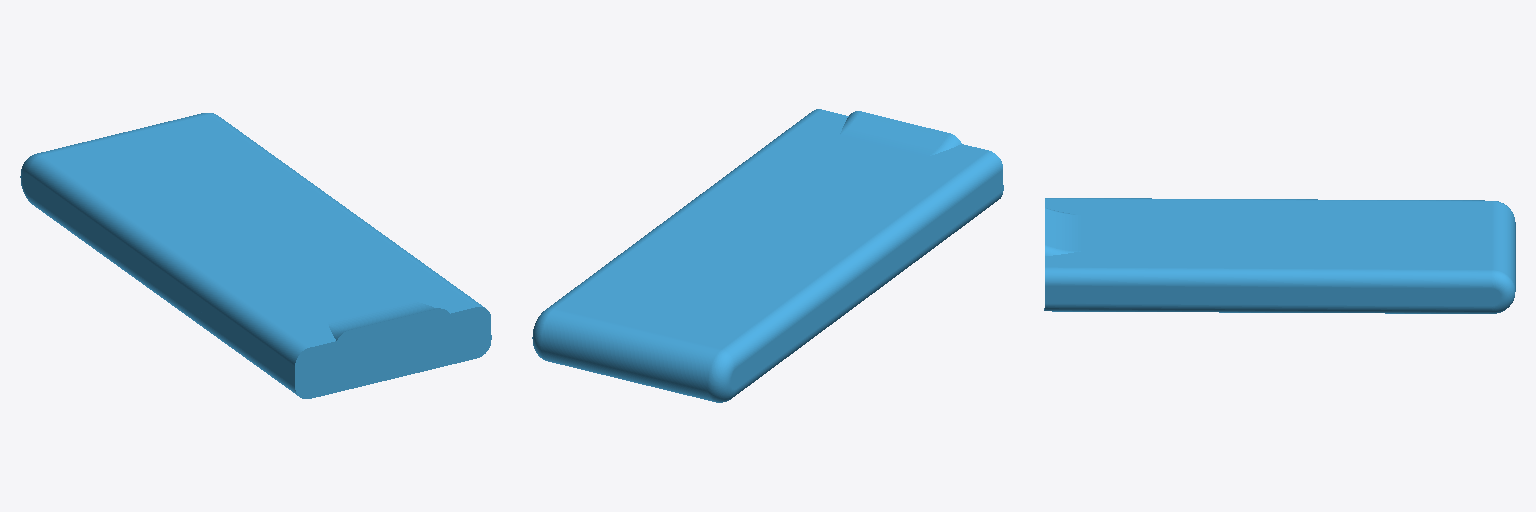
robot.urdf — lock:
<?xml version="1.0" ?>
<robot name="lock" xmlns:xacro="http://www.ros.org/wiki/xacro">
  <link name="body">
    <visual>
      <origin rpy="0 0 0" xyz="0 0 0"/>
      <geometry>
        <mesh filename="package://snap-lock/snap-lock-body.stl"/>
      </geometry>
    </visual>
    <collision>
      <origin rpy="1.57 0 0" xyz="0 0 0"/>
      <geometry>
        <mesh filename="package://snap-lock/snap-lock-body-vhacd.obj"/>
      </geometry>
    </collision>
  </link>
  <link name="arm">
    <visual>
      <origin rpy="0 0 0" xyz="-0. 0.22 -0.13"/>
      <geometry>
        <mesh filename="package://snap-lock/snap-lock-arm.stl"/>
      </geometry>
    </visual>
    <collision>
      <origin rpy="1.57 0 0" xyz="-0. 0.22 -0.13"/>
      <geometry>
        <mesh filename="package://snap-lock/snap-lock-arm-vhacd.obj"/>
      </geometry>
    </collision>
  </link>

  <joint name="joint1" type="revolute">
    <parent link="body"/>
    <child link="arm"/>
    <origin rpy="0 0 0" xyz="-0. -0.22 0.13"/>
    <axis xyz="1 0 0"/>
    <limit effort="20" lower="-1.5" upper="1.5" velocity="0.2"/>
  </joint>

</robot>

--- Render facts (derived) ---
The picture shows the robot from 3 angles, left to right: view 1: azimuth 30°, elevation 25°; view 2: azimuth 150°, elevation 25°; view 3: azimuth 270°, elevation 25°; orthographic projection.
Model lock with 2 links and 1 joints (1 revolute), rooted at body, posed every joint at zero.
Visible links, largest first — view 1: arm; view 2: arm; view 3: arm.
Boxes of the visible links, x1,y1,x2,y2 form: arm: (20,113,491,398); arm: (532,109,1003,402); arm: (1044,198,1515,313).
Bounding box of the posed robot: 0.2 × 0.4975 × 0.0608 m (x, y, z).
Meshes: 2 distinct files referenced, 1 mesh visuals loaded (1 binary STL); not drawn: 1 (reference not matched to a file when rendering).